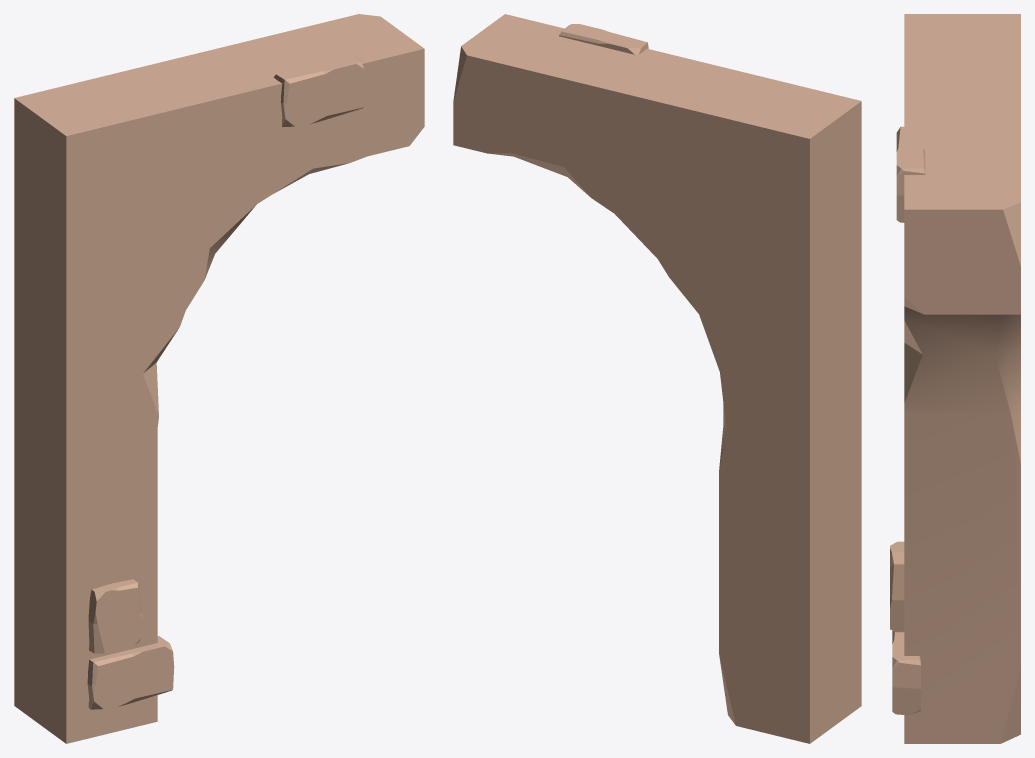
Rendered from wall_thick_arc.gltf.
The picture shows the model from 3 angles, left to right: view 1: azimuth 30°, elevation 25°; view 2: azimuth 150°, elevation 25°; view 3: azimuth 270°, elevation 25°; orthographic projection. The views are drawn at different scales.
Visible parts, largest first — view 1: Wall thick arc, Cube.011, Cube, Cube.003; view 2: Wall thick arc, Cube.011; view 3: Wall thick arc, Cube, Cube.011, Cube.003.
Boxes of the visible parts, box(x1,y1,x2,y2) form: Wall thick arc: box(14, 14, 424, 743); Cube.011: box(273, 53, 365, 127); Cube: box(87, 636, 174, 709); Cube.003: box(88, 579, 142, 653); Wall thick arc: box(453, 14, 861, 743); Cube.011: box(559, 24, 648, 54); Wall thick arc: box(904, 14, 1020, 743); Cube: box(892, 630, 920, 715); Cube.011: box(896, 126, 925, 222); Cube.003: box(890, 541, 904, 632).
Bounding box in the file's own units: 3.97 × 6.49 × 1.12.
